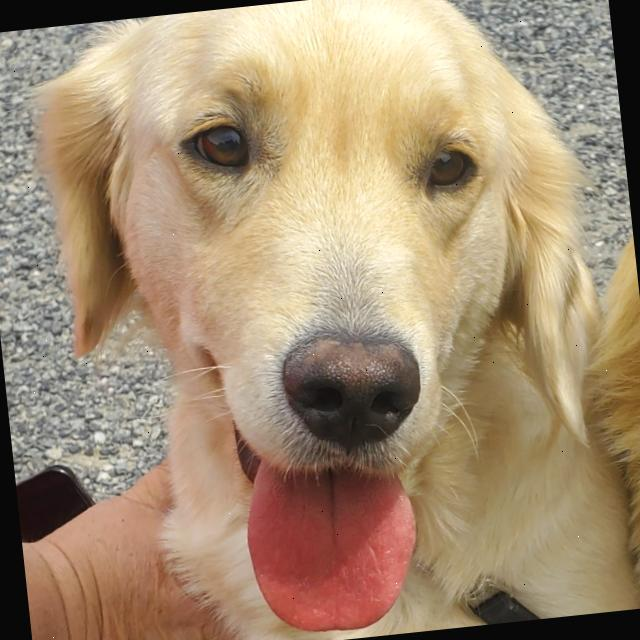golden_retriever_dog: (8, 0, 626, 640)
